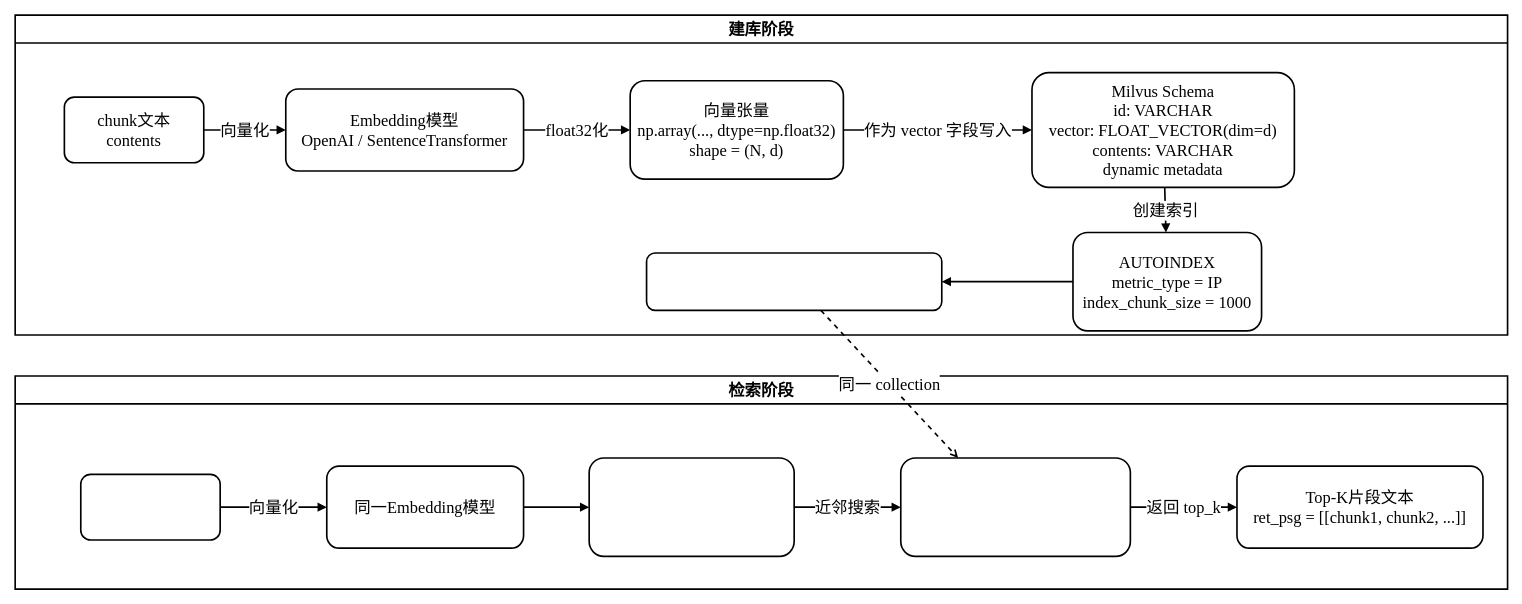
The diagram is 1522 pixels wide and 604 high, and some of its shapes have lost their labels. The shapes that lost their labels are listed below. From the top down, each one's centre as x and y in pixels, then its label:
At (x=793, y=281): "batch insert -> flush -> load_collection".
At (x=150, y=506): "query文本".
At (x=691, y=507): "查询向量 shape = (Q, d) dtype = np.float32".
At (x=1015, y=507): "Milvus search limit = top_k output_fields = [contents] consistency = Bounded".
